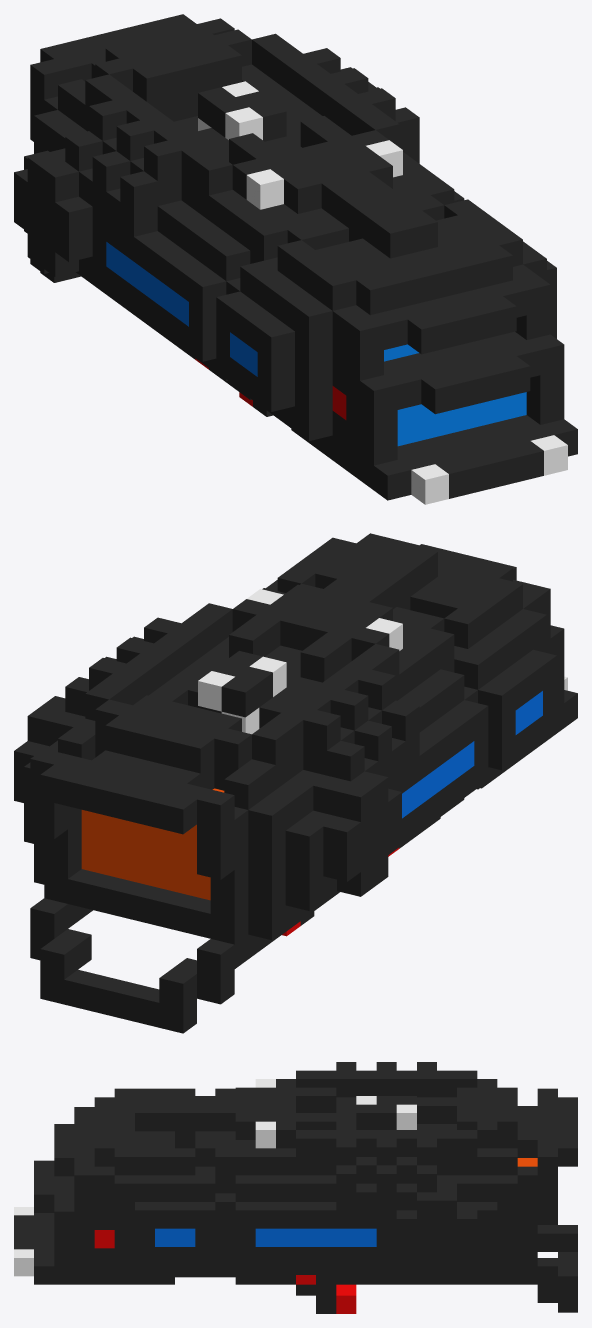
Rendered from Extra-0-DualStriker_Body.obj.
3 renders of one model, top to bottom at view 1: azimuth 30°, elevation 25°; view 2: azimuth 150°, elevation 25°; view 3: azimuth 270°, elevation 25°, orthographic. The views are drawn at different scales.
Parts seen in each view (by area): view 1: DualStriker_Body; view 2: DualStriker_Body; view 3: DualStriker_Body.
Boxes of the visible parts, x1,y1,x2,y2 form: DualStriker_Body: [14, 14, 577, 504]; DualStriker_Body: [14, 533, 577, 1033]; DualStriker_Body: [14, 1062, 577, 1313].
Bounding box in the file's own units: 1.4 × 1.1 × 2.8.
1 material, 1 textured.
